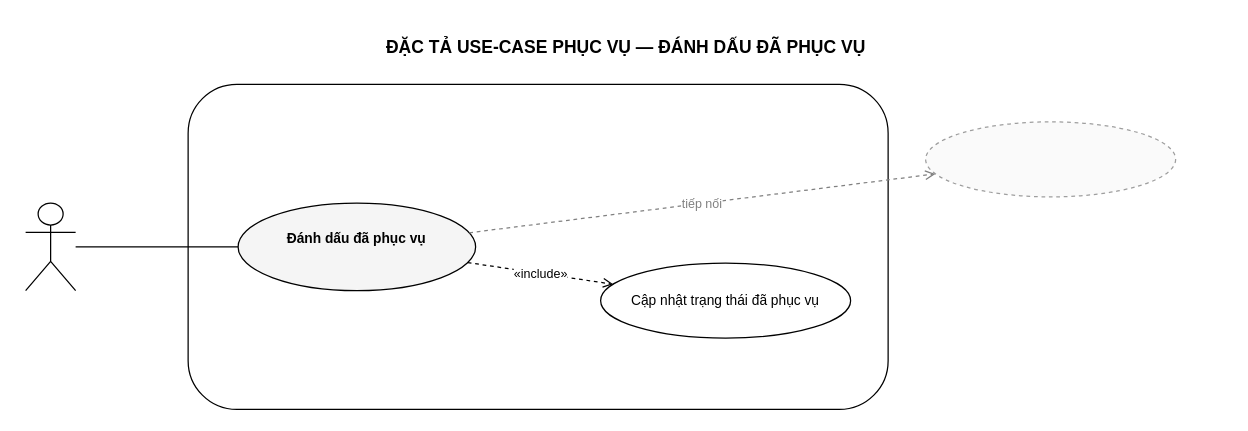
Image size: 1248x431. Some labels were removed from this diagram. The box of each missing label's shape, as (x1, y1, x2, y2) in pixels:
Phục vụ: (24, 202, 76, 291)
Theo dõi tín hiệu bàn (UC-11): (924, 121, 1176, 197)
